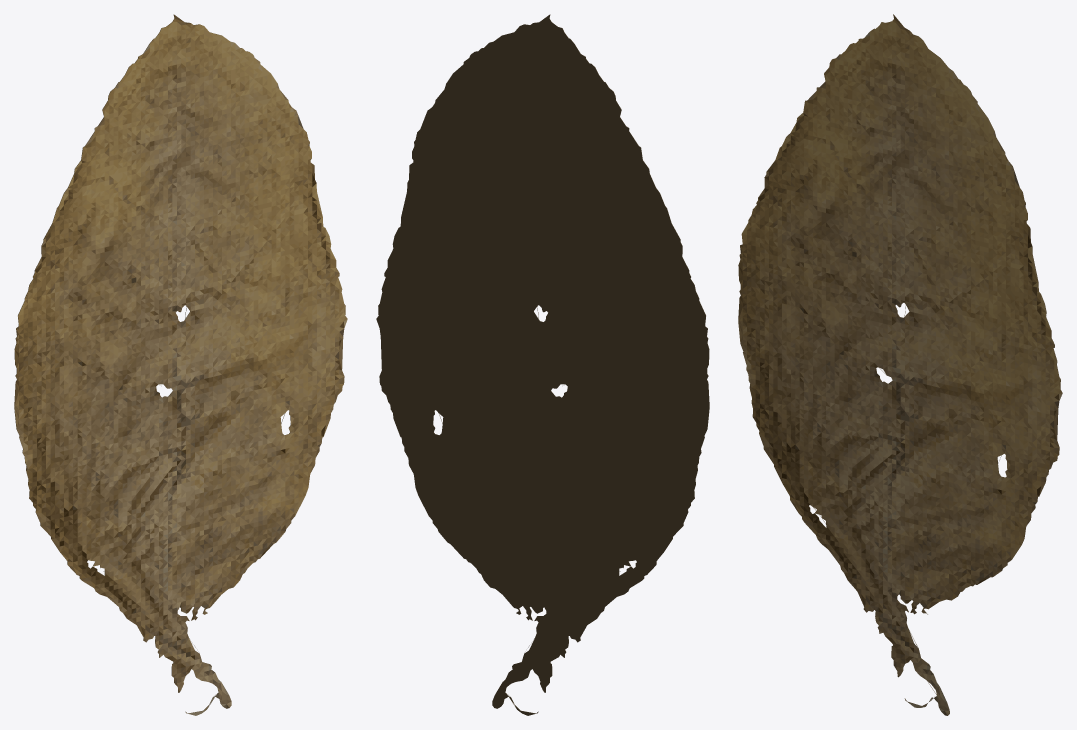
Rendered from 20260824_164950359_iOS.obj.
3 renders of one model, left to right at view 1: azimuth 30°, elevation 25°; view 2: azimuth 150°, elevation 25°; view 3: azimuth 330°, elevation 25°, orthographic. The views are drawn at different scales.
Parts seen in each view (by area): view 1: 20260824_164950359_iOS; view 2: 20260824_164950359_iOS; view 3: 20260824_164950359_iOS.
Boxes of the visible parts, left/top/right/bottom form: 20260824_164950359_iOS: left=14, top=14, right=347, bottom=715; 20260824_164950359_iOS: left=376, top=14, right=709, bottom=715; 20260824_164950359_iOS: left=738, top=14, right=1062, bottom=715.
Bounding box in the file's own units: 222 × 449 × 0.3.
